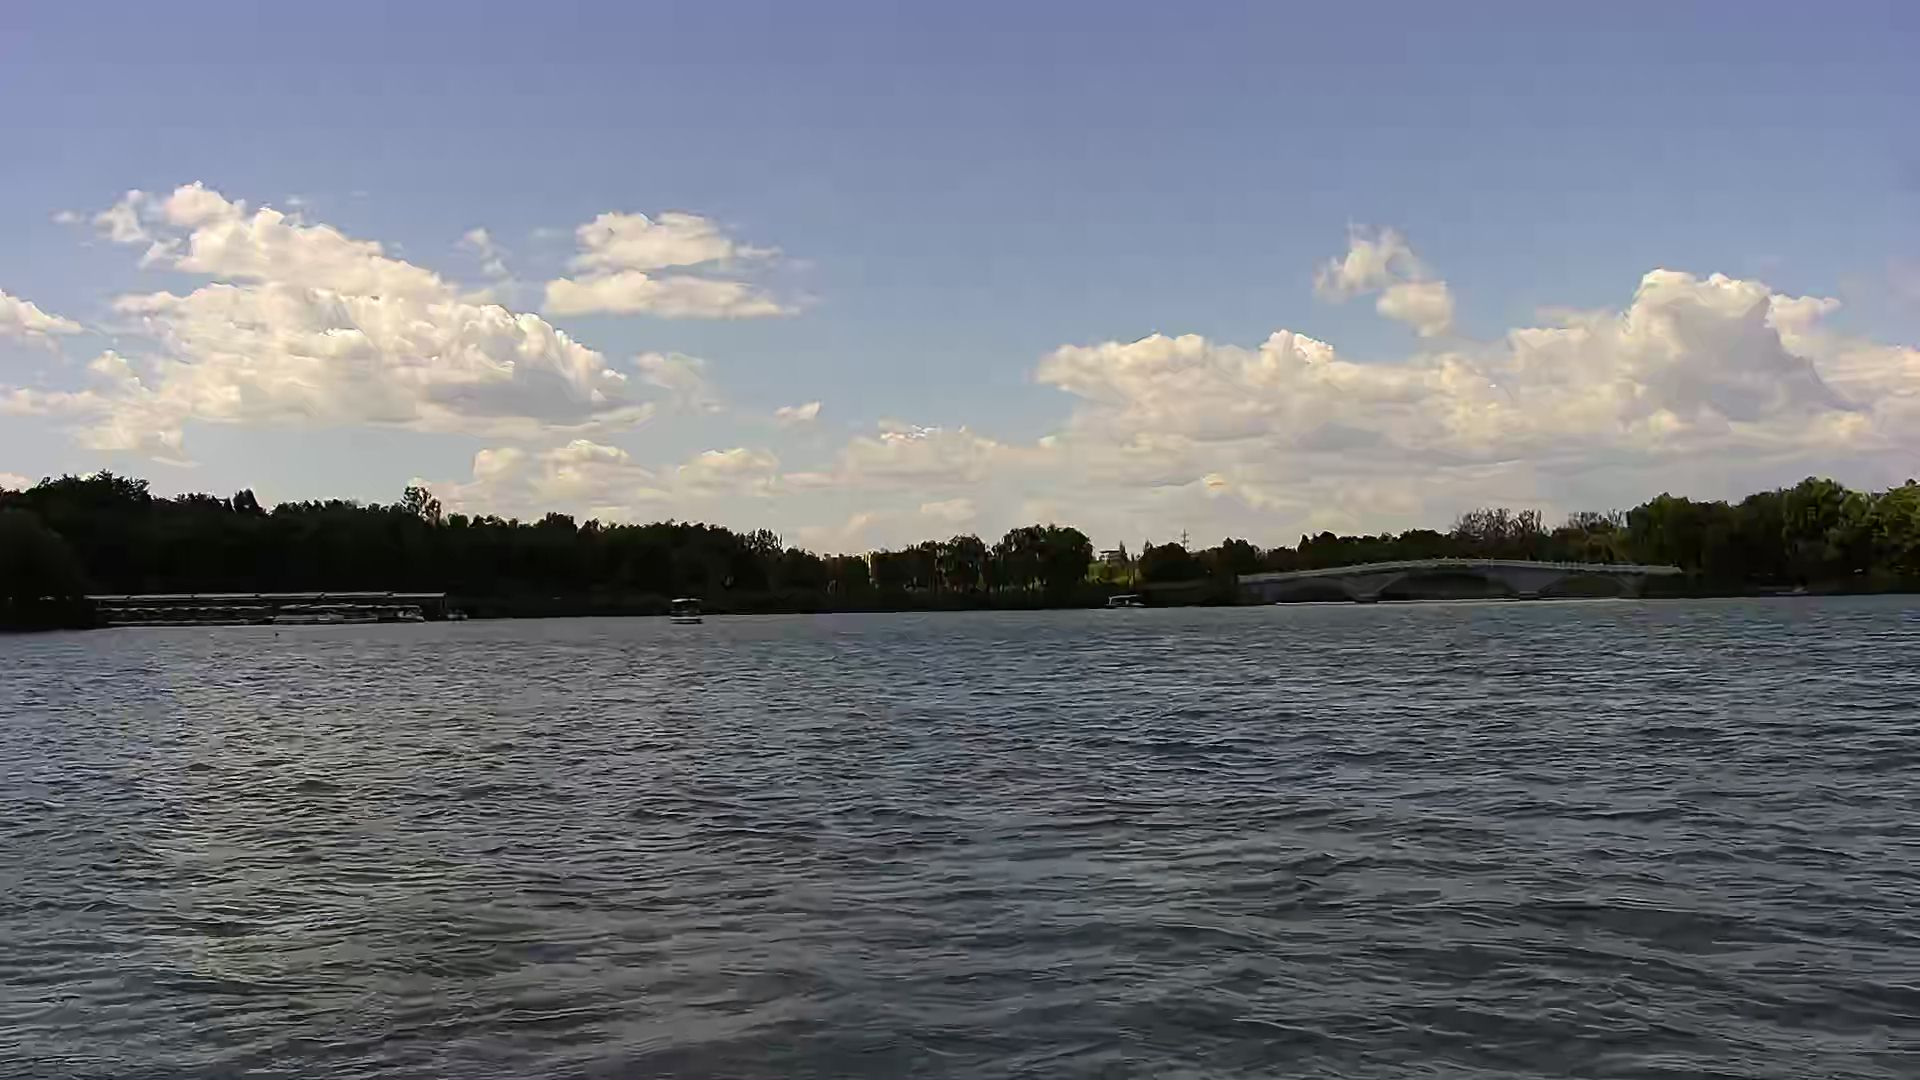boat: (661, 593, 715, 630), (1106, 583, 1150, 616)
bridge: (1242, 553, 1680, 607)
harbor: (82, 585, 460, 630)
